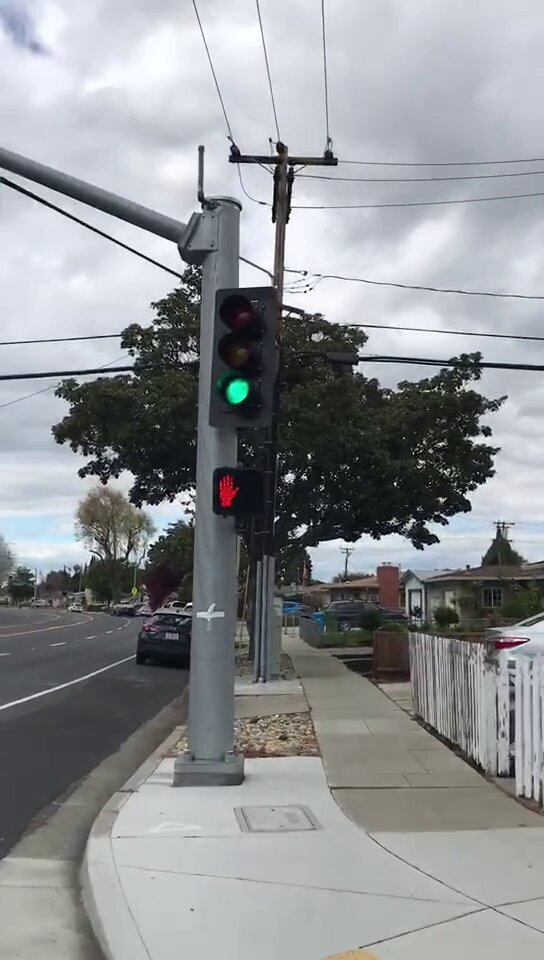green_light: (214, 287, 277, 425)
